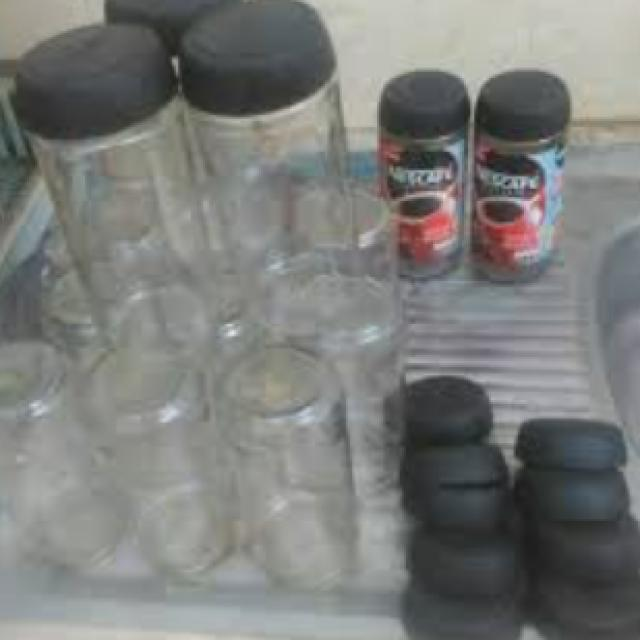ToplesKaca: (32, 3, 386, 640), (402, 61, 576, 286)
